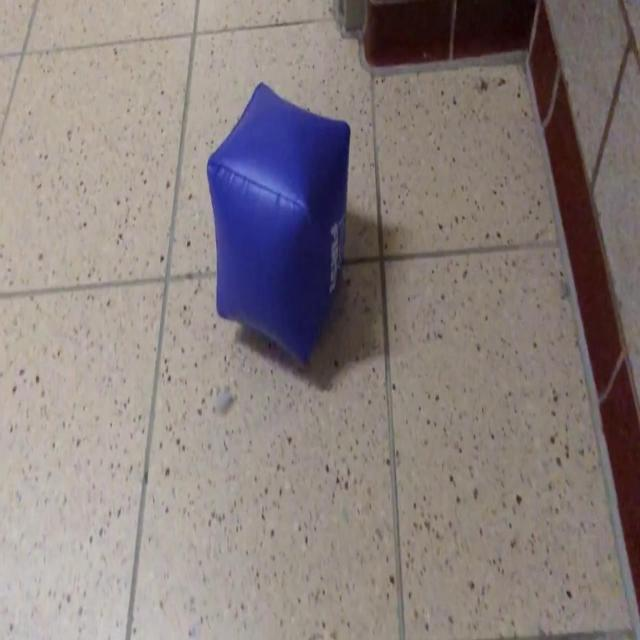frc_cube: (207, 85, 349, 367)
